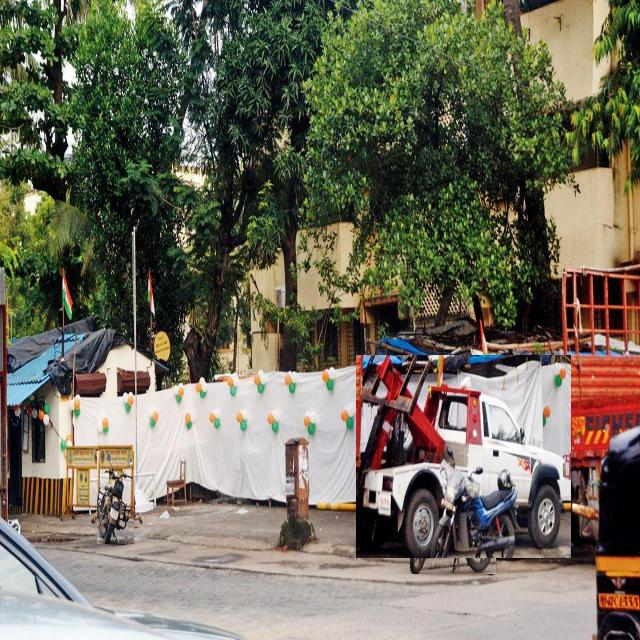motorcycle: (410, 445, 496, 574), (98, 451, 134, 544)
truck: (356, 355, 571, 558)
